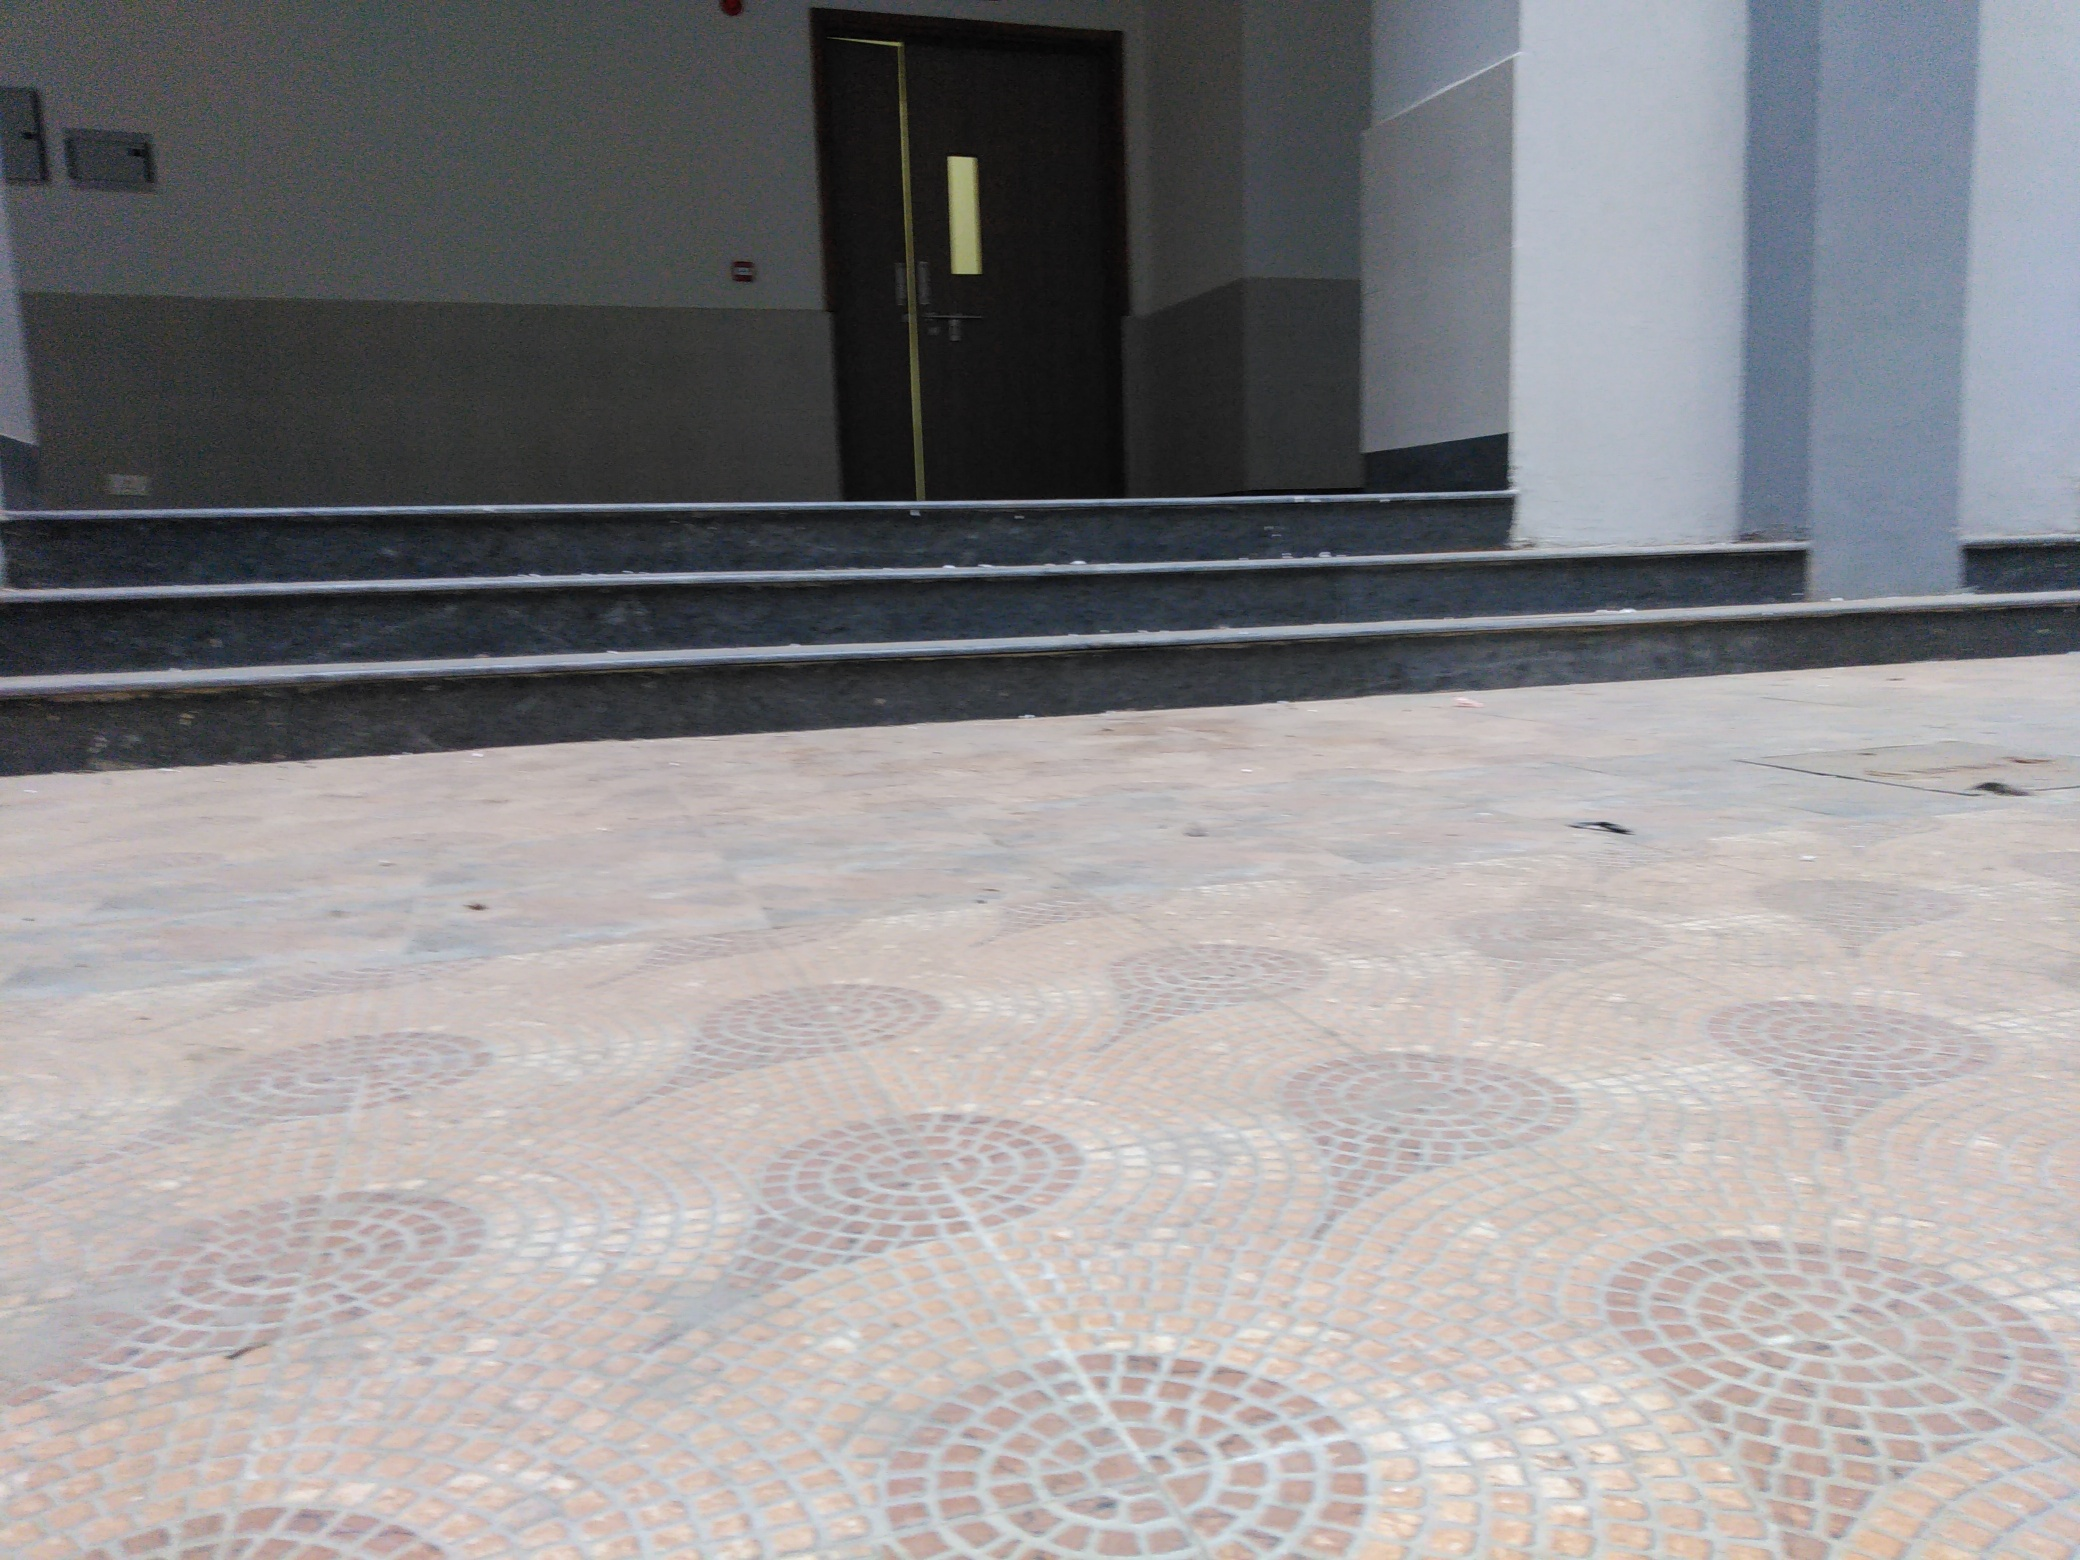stairs_up: (20, 510, 1788, 705)
